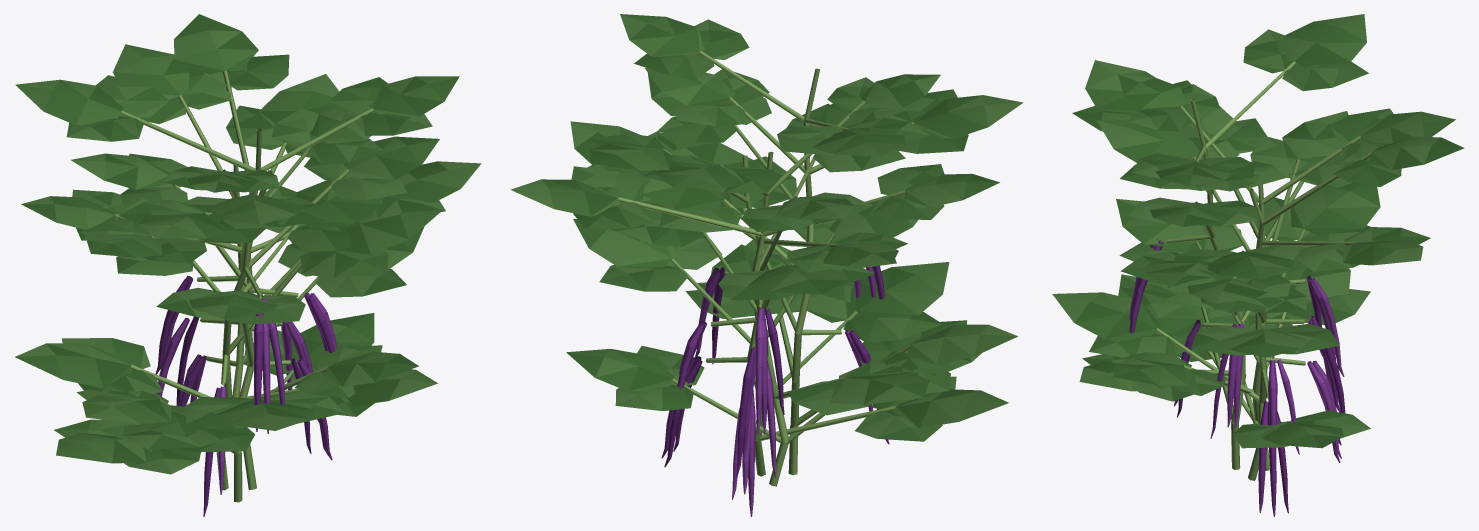
The model's file is haricot_violet_mur.glb.
The picture shows the model from 3 angles, left to right: view 1: azimuth 30°, elevation 25°; view 2: azimuth 150°, elevation 25°; view 3: azimuth 270°, elevation 25°; orthographic projection. The views are drawn at different scales.
Parts seen in each view (by area): view 1: Haricot_Feuilles, Haricot_Tiges, Haricot_Gousses; view 2: Haricot_Feuilles, Haricot_Tiges, Haricot_Gousses; view 3: Haricot_Feuilles, Haricot_Tiges, Haricot_Gousses.
Part boxes in pixels (left/top/right/bottom): Haricot_Feuilles: left=15, top=14, right=481, bottom=474; Haricot_Tiges: left=115, top=70, right=385, bottom=502; Haricot_Gousses: left=155, top=275, right=337, bottom=516; Haricot_Feuilles: left=510, top=14, right=1023, bottom=441; Haricot_Tiges: left=618, top=50, right=914, bottom=486; Haricot_Gousses: left=661, top=265, right=889, bottom=516; Haricot_Feuilles: left=1052, top=14, right=1464, bottom=448; Haricot_Tiges: left=1156, top=61, right=1372, bottom=480; Haricot_Gousses: left=1129, top=238, right=1345, bottom=516.
Size of the model in its own units: 0.4983 by 0.446 by 0.4347.
